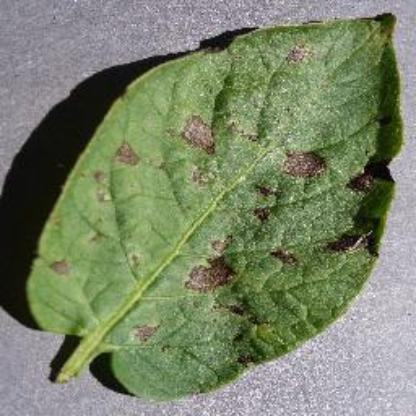Early-Blight: (17, 8, 416, 404)
